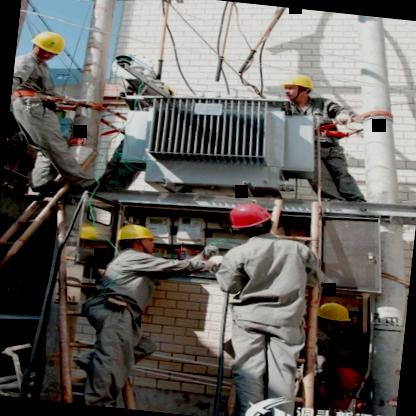helmet: (224, 198, 274, 240), (113, 220, 160, 256), (312, 298, 353, 338), (278, 68, 316, 106), (27, 26, 67, 62)
